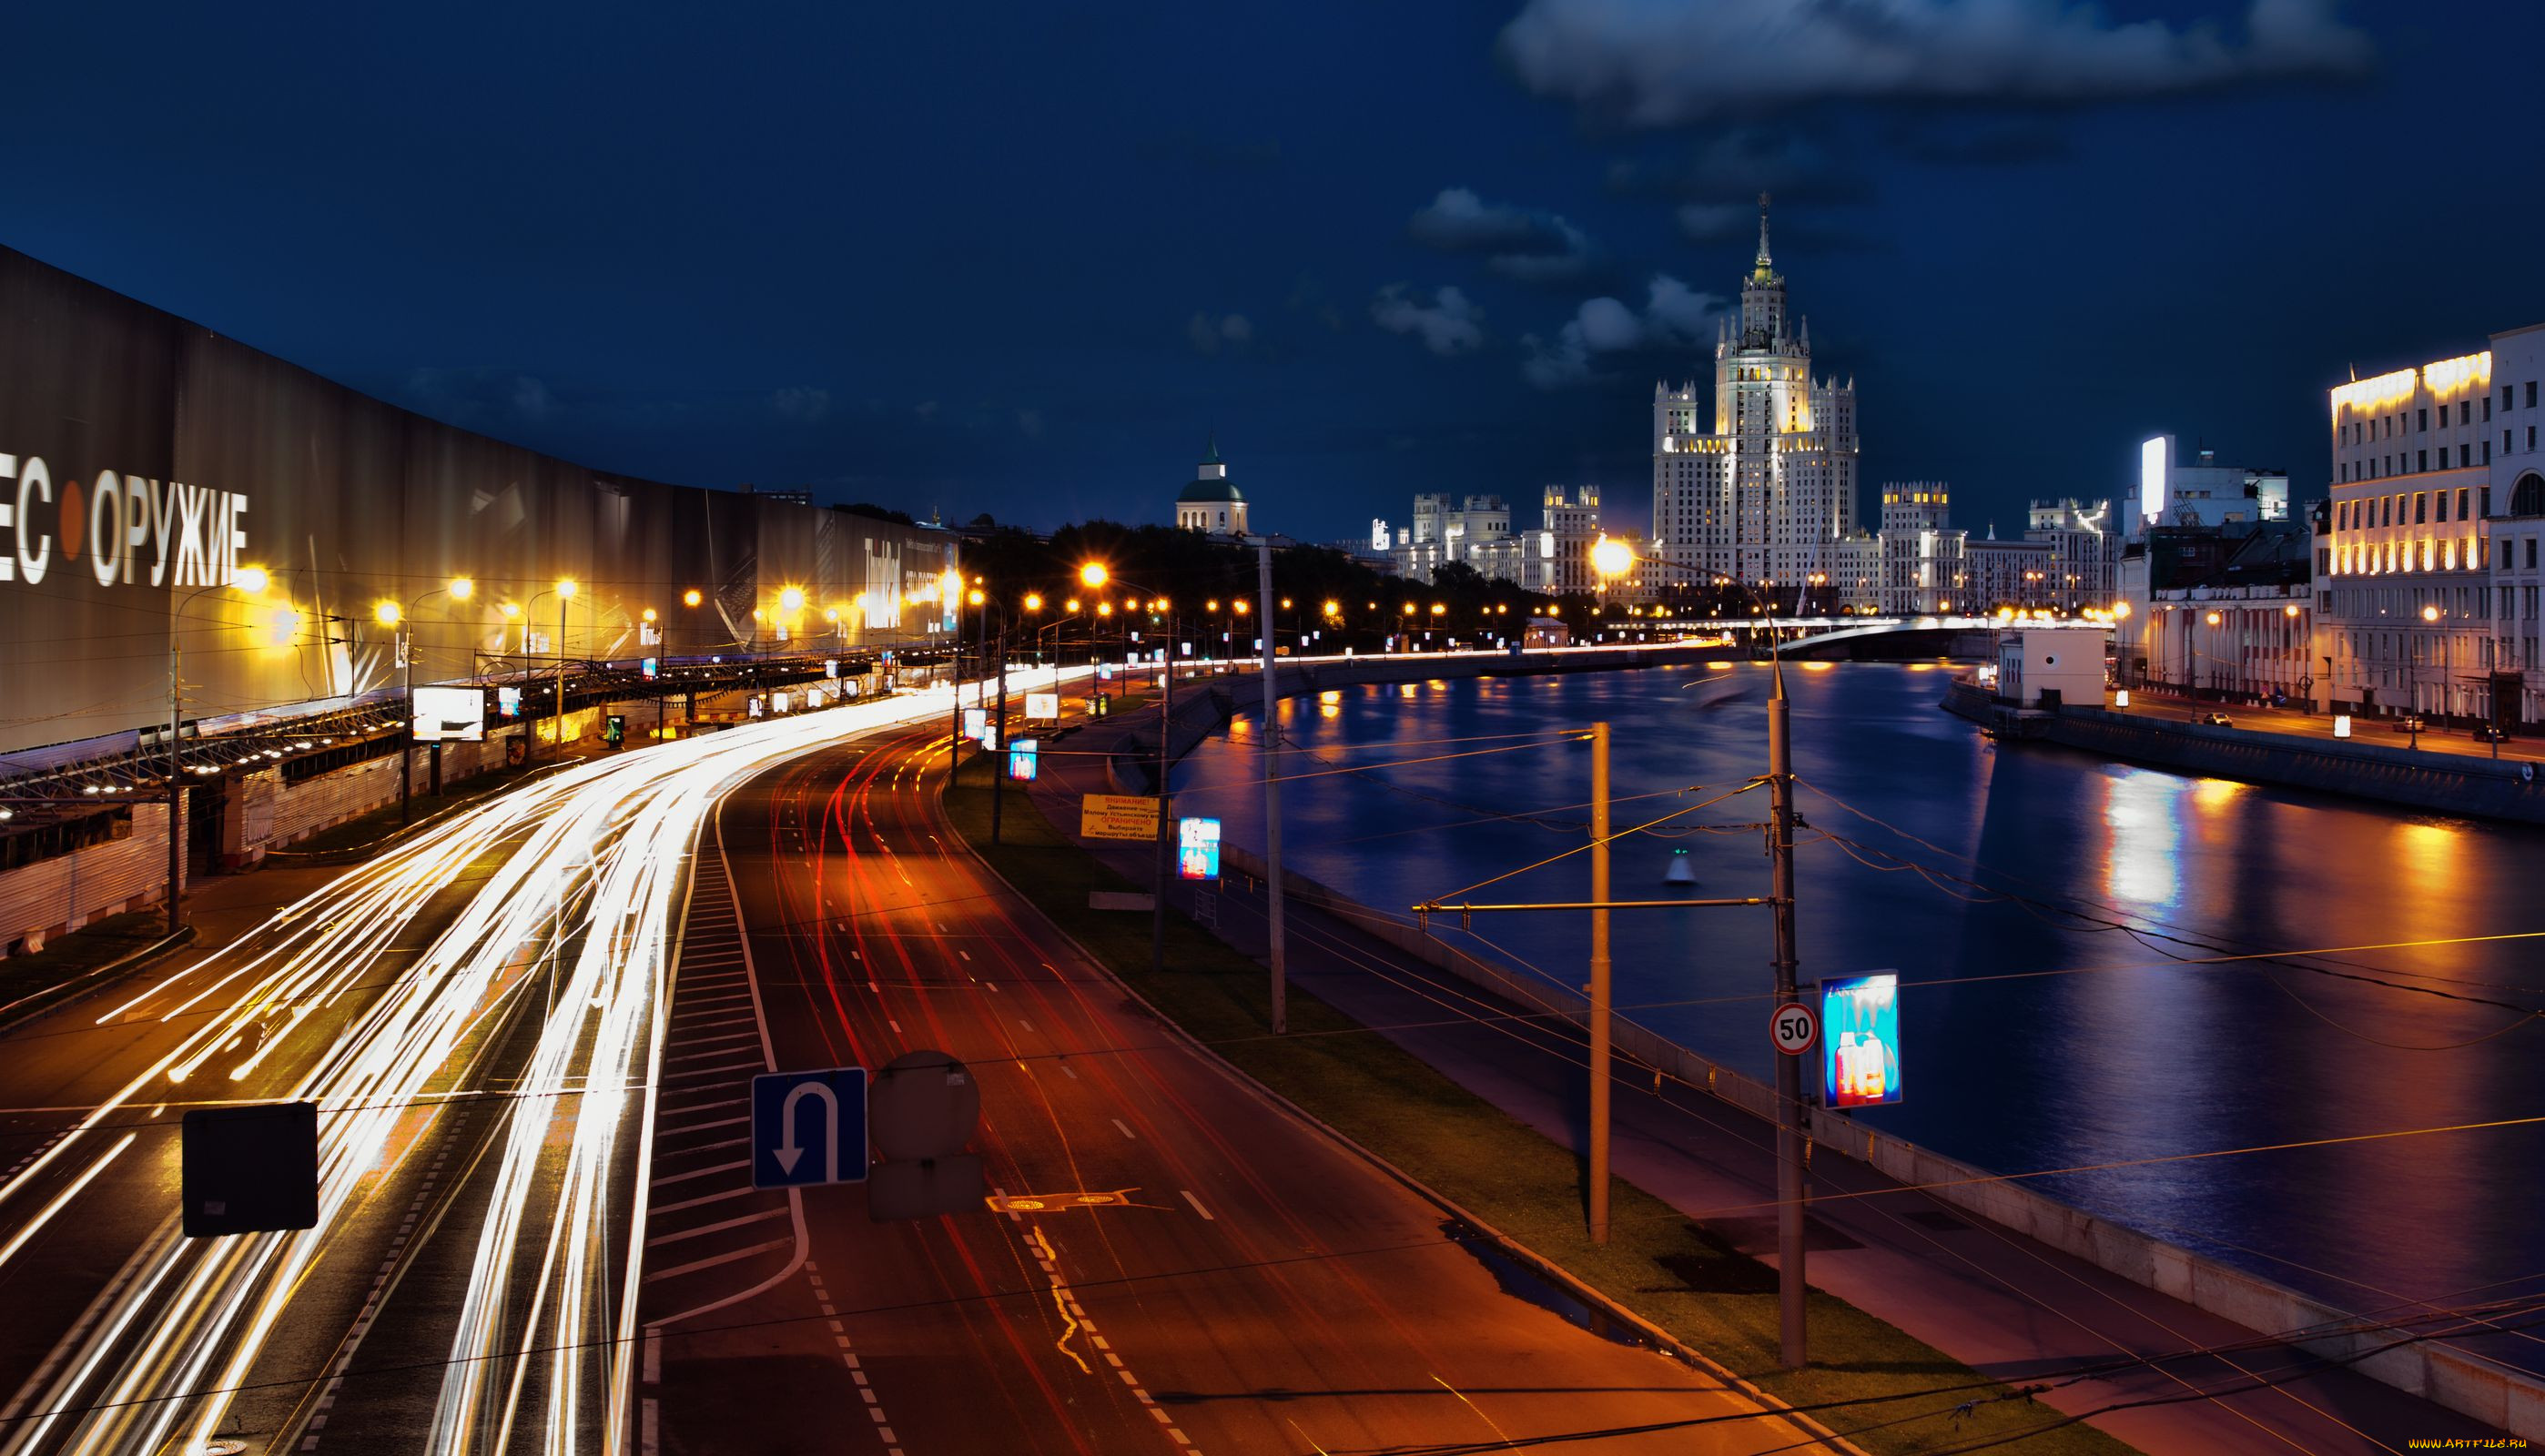sign: (745, 1061, 876, 1187), (1767, 1000, 1821, 1057)
